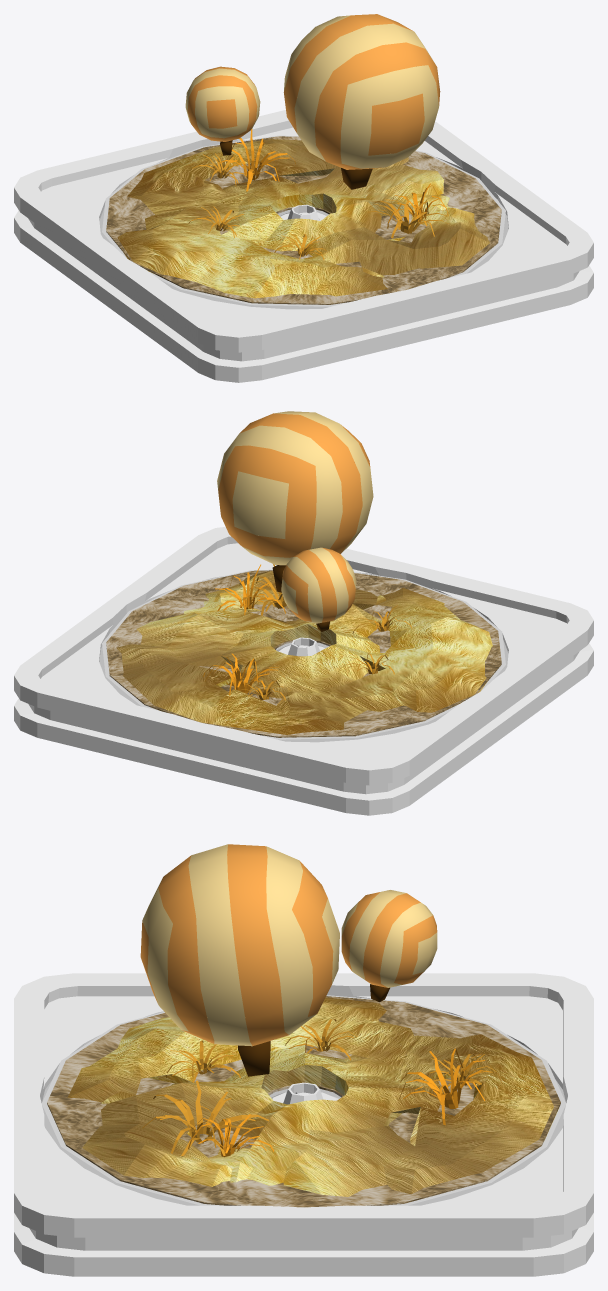
File: yellow.glb
3 renders of one model, top to bottom at view 1: azimuth 30°, elevation 25°; view 2: azimuth 150°, elevation 25°; view 3: azimuth 270°, elevation 25°, orthographic. The views are drawn at different scales.
Visible parts, largest first — view 1: 1.box, cd_cover 2, Cube, cd_cover 1, Cube.007, cd_cover_backup, cd, Plant_01.004, Plant_01.001, Plant_01.002; view 2: 1.box, cd_cover 2, Cube, cd_cover 1, Cube.007, cd_cover_backup, cd, Plant_01.004, Plant_01.002, ctr; view 3: 1.box, cd_cover 2, Cube, cd_cover 1, Cube.007, cd_cover_backup, cd, Plant_01.001, Plant_01.004, Plant_01.002, ctr, Plant_01.005 (+1 smaller).
Boxes of the visible parts, left/top/right/bottom form: 1.box: left=14, top=110, right=593, bottom=382; cd_cover 2: left=118, top=139, right=489, bottom=298; Cube: left=283, top=14, right=440, bottom=189; cd_cover 1: left=106, top=136, right=501, bottom=304; Cube.007: left=185, top=66, right=260, bottom=155; cd_cover_backup: left=102, top=135, right=505, bottom=306; cd: left=99, top=198, right=508, bottom=309; Plant_01.004: left=218, top=129, right=295, bottom=191; Plant_01.001: left=363, top=196, right=448, bottom=238; Plant_01.002: left=386, top=183, right=448, bottom=228; 1.box: left=14, top=527, right=593, bottom=815; cd_cover 2: left=116, top=571, right=492, bottom=734; Cube: left=217, top=411, right=373, bottom=592; cd_cover 1: left=106, top=570, right=501, bottom=737; Cube.007: left=281, top=547, right=356, bottom=631; cd_cover_backup: left=102, top=569, right=505, bottom=739; cd: left=99, top=629, right=508, bottom=742; Plant_01.004: left=203, top=653, right=284, bottom=695; Plant_01.002: left=215, top=564, right=285, bottom=615; ctr: left=276, top=637, right=325, bottom=656; 1.box: left=14, top=973, right=593, bottom=1276; cd_cover 2: left=67, top=997, right=558, bottom=1196; Cube: left=140, top=844, right=339, bottom=1076; cd_cover 1: left=47, top=996, right=560, bottom=1207; Cube.007: left=341, top=890, right=437, bottom=1002; cd_cover_backup: left=41, top=995, right=566, bottom=1205; cd: left=42, top=1080, right=565, bottom=1205; Plant_01.001: left=142, top=1080, right=268, bottom=1156; Plant_01.004: left=399, top=1048, right=501, bottom=1125; Plant_01.002: left=188, top=1105, right=273, bottom=1157; ctr: left=271, top=1082, right=339, bottom=1104; Plant_01.005: left=166, top=1040, right=240, bottom=1082.
Bounding box in the file's own units: 2.02 × 1.23 × 2.02.
9 materials, 2 textured.
